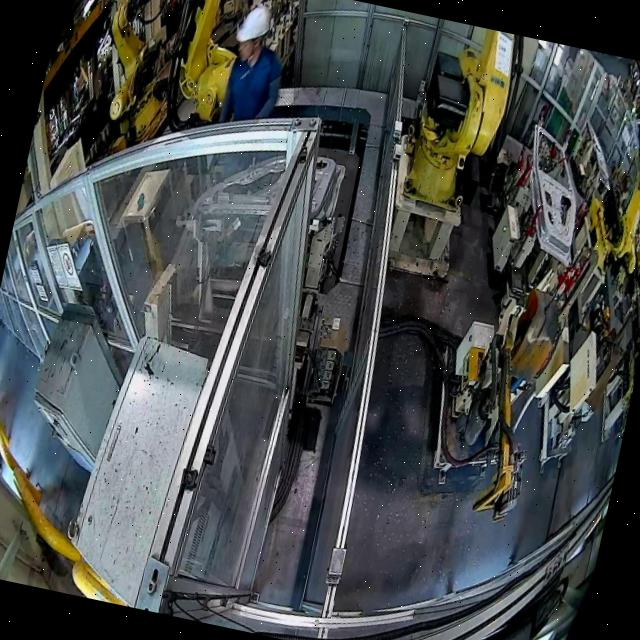Person: (216, 0, 296, 133)
